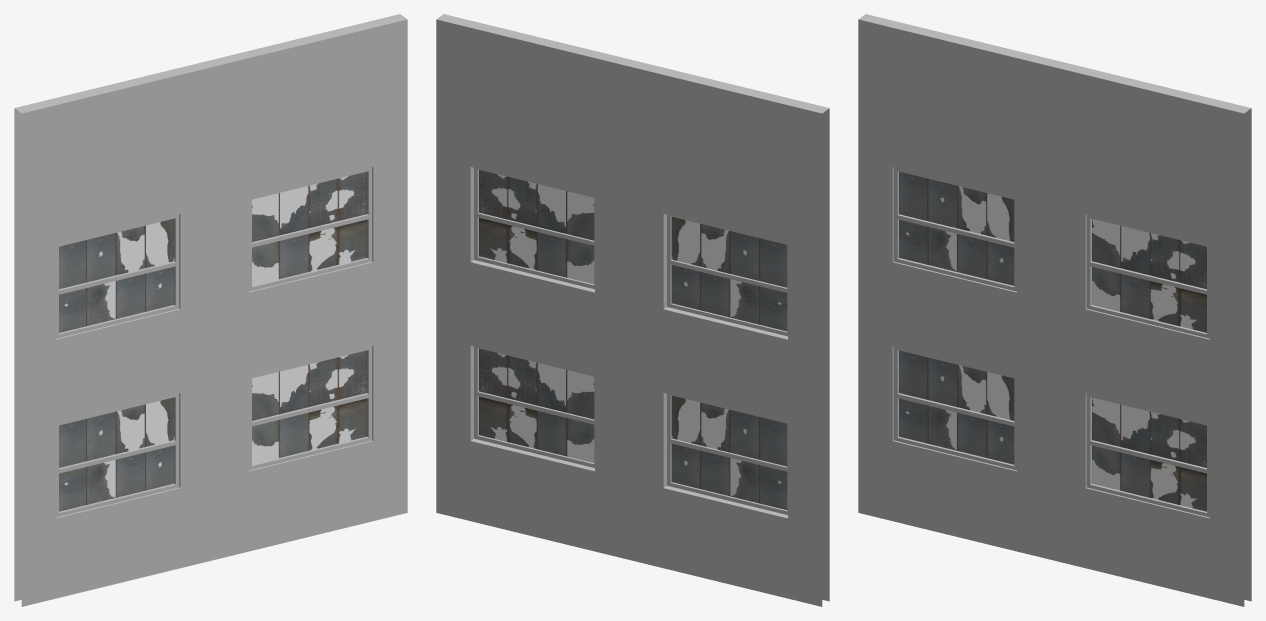
File: Factory3Wall03.FBX
The picture shows the model from 3 angles, left to right: view 1: azimuth 30°, elevation 25°; view 2: azimuth 150°, elevation 25°; view 3: azimuth 330°, elevation 25°; orthographic projection.
Parts seen in each view (by area): view 1: Factory3Wall03, Factory3Wall03Glass; view 2: Factory3Wall03, Factory3Wall03Glass; view 3: Factory3Wall03, Factory3Wall03Glass.
Boxes of the visible parts, x1,y1,x2,y2 form: Factory3Wall03: [14, 14, 407, 606]; Factory3Wall03Glass: [59, 171, 366, 511]; Factory3Wall03: [436, 14, 829, 606]; Factory3Wall03Glass: [479, 170, 787, 509]; Factory3Wall03: [858, 14, 1251, 606]; Factory3Wall03Glass: [899, 171, 1206, 511].
Bounding box in the file's own units: 900 × 1100 × 30.
